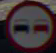No overtake: (7, 2, 51, 43)
